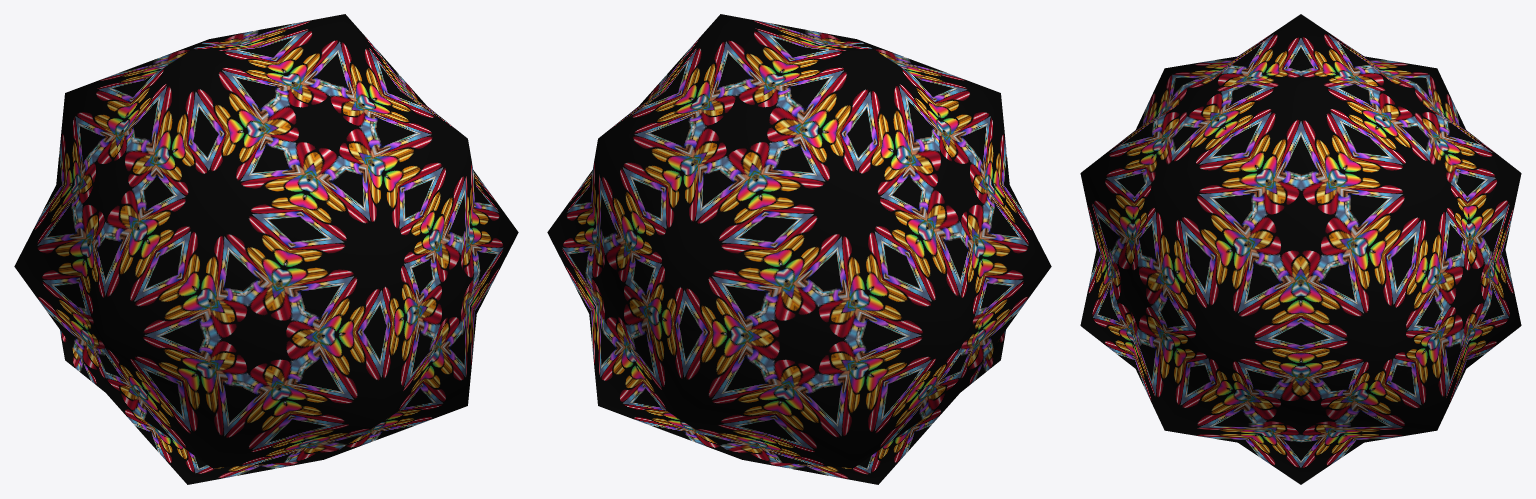
Rendered from 32SmallIcosacronicHexecontahedron.gltf.
3 views of the same model, side by side, from view 1: azimuth 30°, elevation 25°; view 2: azimuth 150°, elevation 25°; view 3: azimuth 270°, elevation 25° (orthographic). The views are drawn at different scales.
Visible parts, largest first — view 1: SmallIcosacronicHexecontahedron9; view 2: SmallIcosacronicHexecontahedron9; view 3: SmallIcosacronicHexecontahedron9.
Part boxes in pixels (x1,y1,x2,y2): SmallIcosacronicHexecontahedron9: (14, 14, 518, 484); SmallIcosacronicHexecontahedron9: (547, 14, 1051, 484); SmallIcosacronicHexecontahedron9: (1080, 14, 1521, 484).
Bounding box in the file's own units: 3.62 × 3.62 × 3.62.
1 material, 1 textured.
